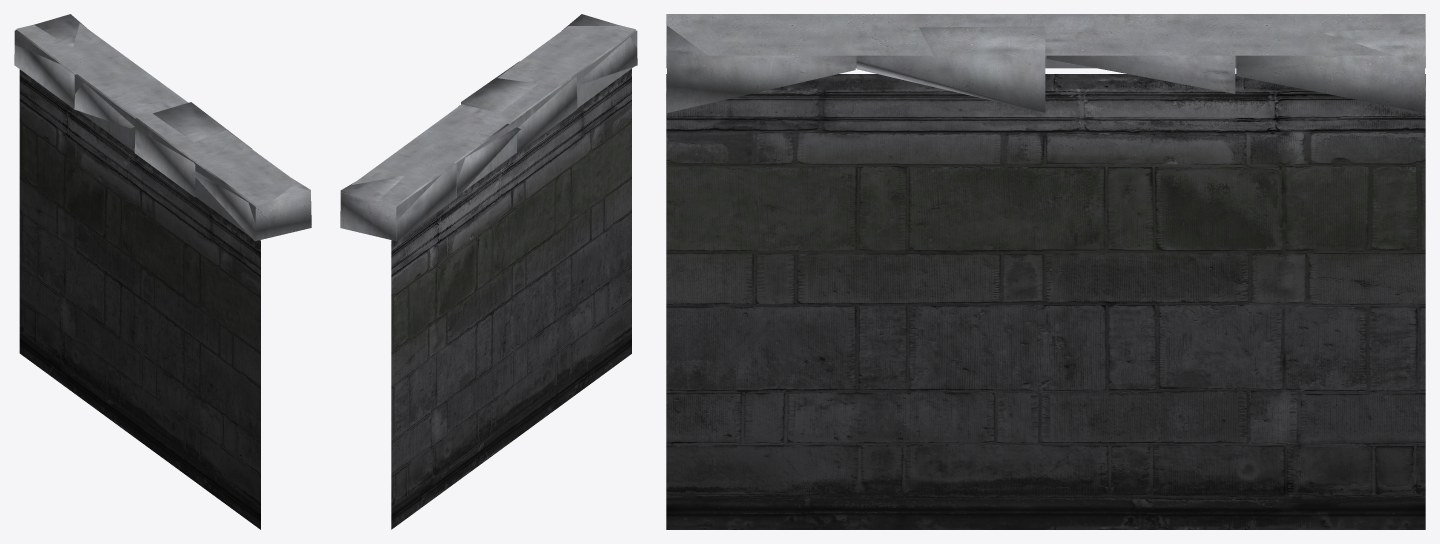
The model's file is SM_Banchina_Mod4m_LOD2.fbx.
3 renders of one model, left to right at view 1: azimuth 30°, elevation 25°; view 2: azimuth 150°, elevation 25°; view 3: azimuth 270°, elevation 25°, orthographic. The views are drawn at different scales.
Visible parts, largest first — view 1: SM_Banchina_Mod4m_LOD2; view 2: SM_Banchina_Mod4m_LOD2; view 3: SM_Banchina_Mod4m_LOD2.
Part boxes in pixels (x1,y1,x2,y2): SM_Banchina_Mod4m_LOD2: (14, 14, 311, 529); SM_Banchina_Mod4m_LOD2: (340, 14, 637, 529); SM_Banchina_Mod4m_LOD2: (666, 14, 1425, 529).
Size of the model in its own units: 62.59 by 400 by 300.
2 materials, 2 textured.
